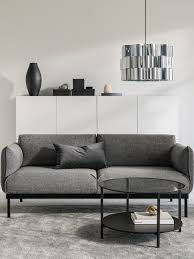Lamp: (119, 36, 186, 83)
Sofa: (9, 130, 194, 213)
Table: (91, 172, 191, 247)
